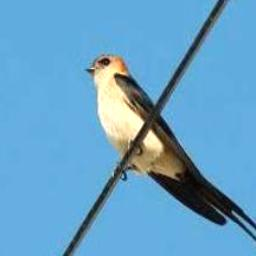Swallow: (84, 54, 256, 253)
